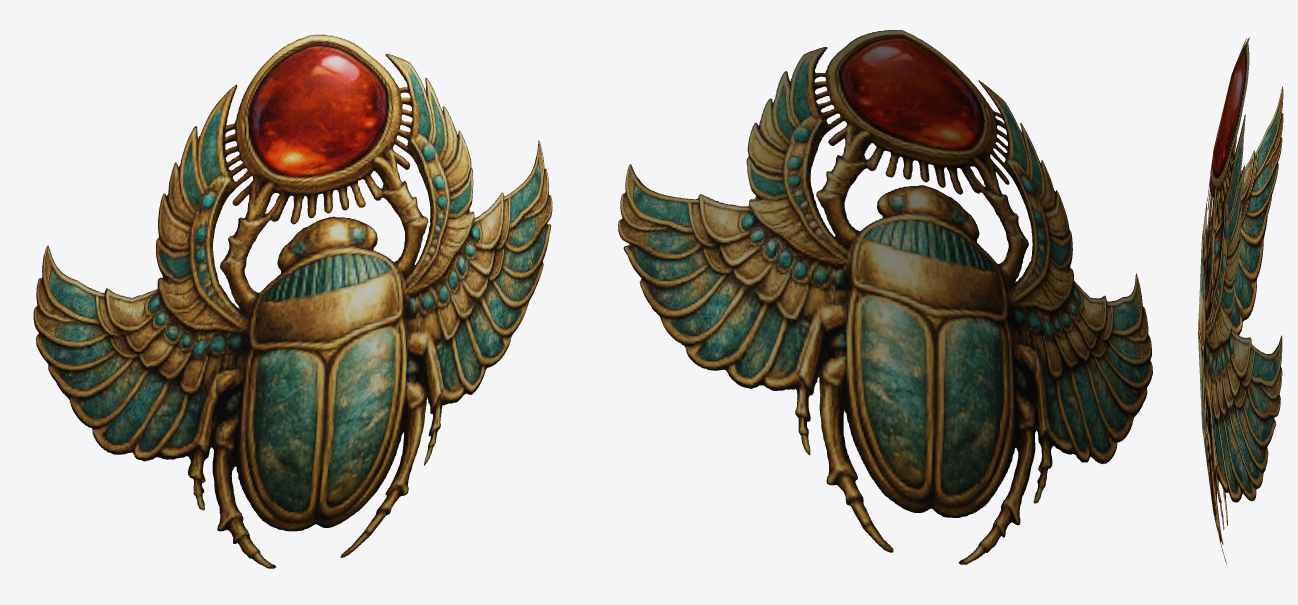
Rendered from Puzzle 1 Beetle.fbx.
3 renders of one model, left to right at view 1: azimuth 30°, elevation 25°; view 2: azimuth 150°, elevation 25°; view 3: azimuth 270°, elevation 25°, orthographic. The views are drawn at different scales.
Parts seen in each view (by area): view 1: Puzzle 1 ScarabBeetle; view 2: Puzzle 1 ScarabBeetle; view 3: Puzzle 1 ScarabBeetle.
Part boxes in pixels (bbox=[...]): Puzzle 1 ScarabBeetle: bbox=[33, 34, 552, 568]; Puzzle 1 ScarabBeetle: bbox=[618, 30, 1152, 564]; Puzzle 1 ScarabBeetle: bbox=[1198, 37, 1283, 564].
Bounding box in the file's own units: 37.63 × 36.82 × 5.14.
1 material, 1 textured.
